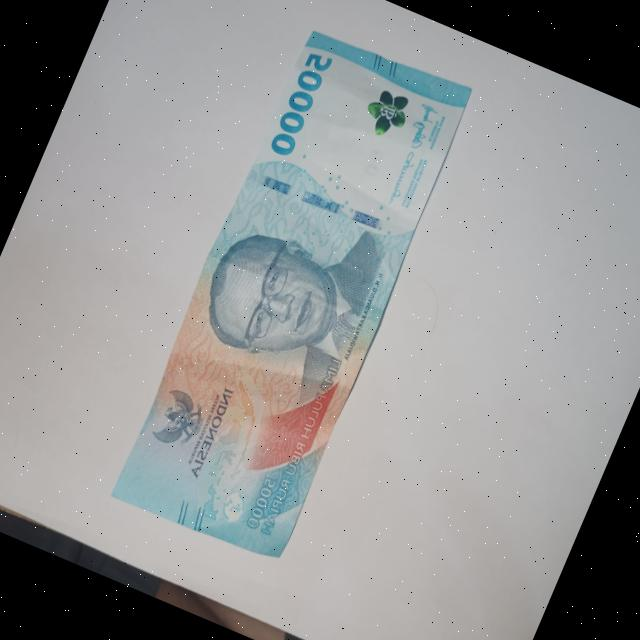50K: (96, 4, 496, 583)
